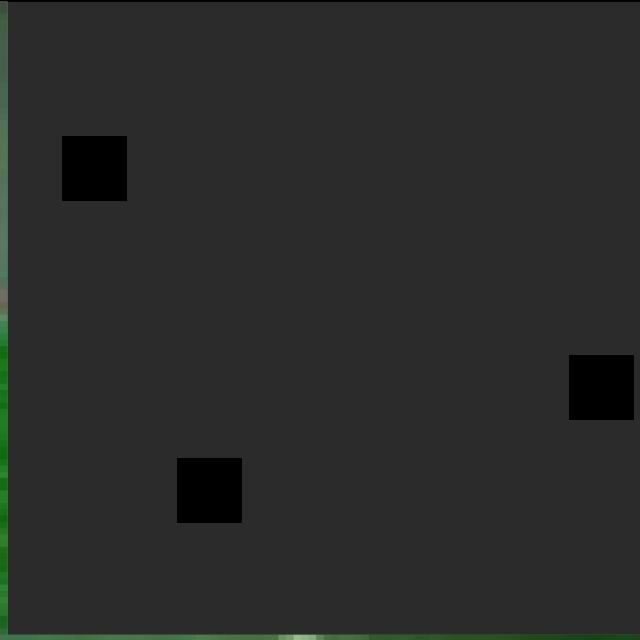nofire: (7, 1, 640, 634)
